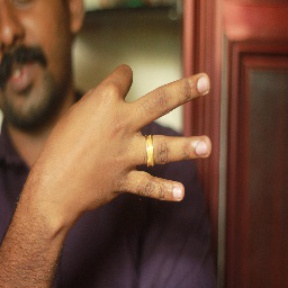K: (40, 63, 216, 209)
